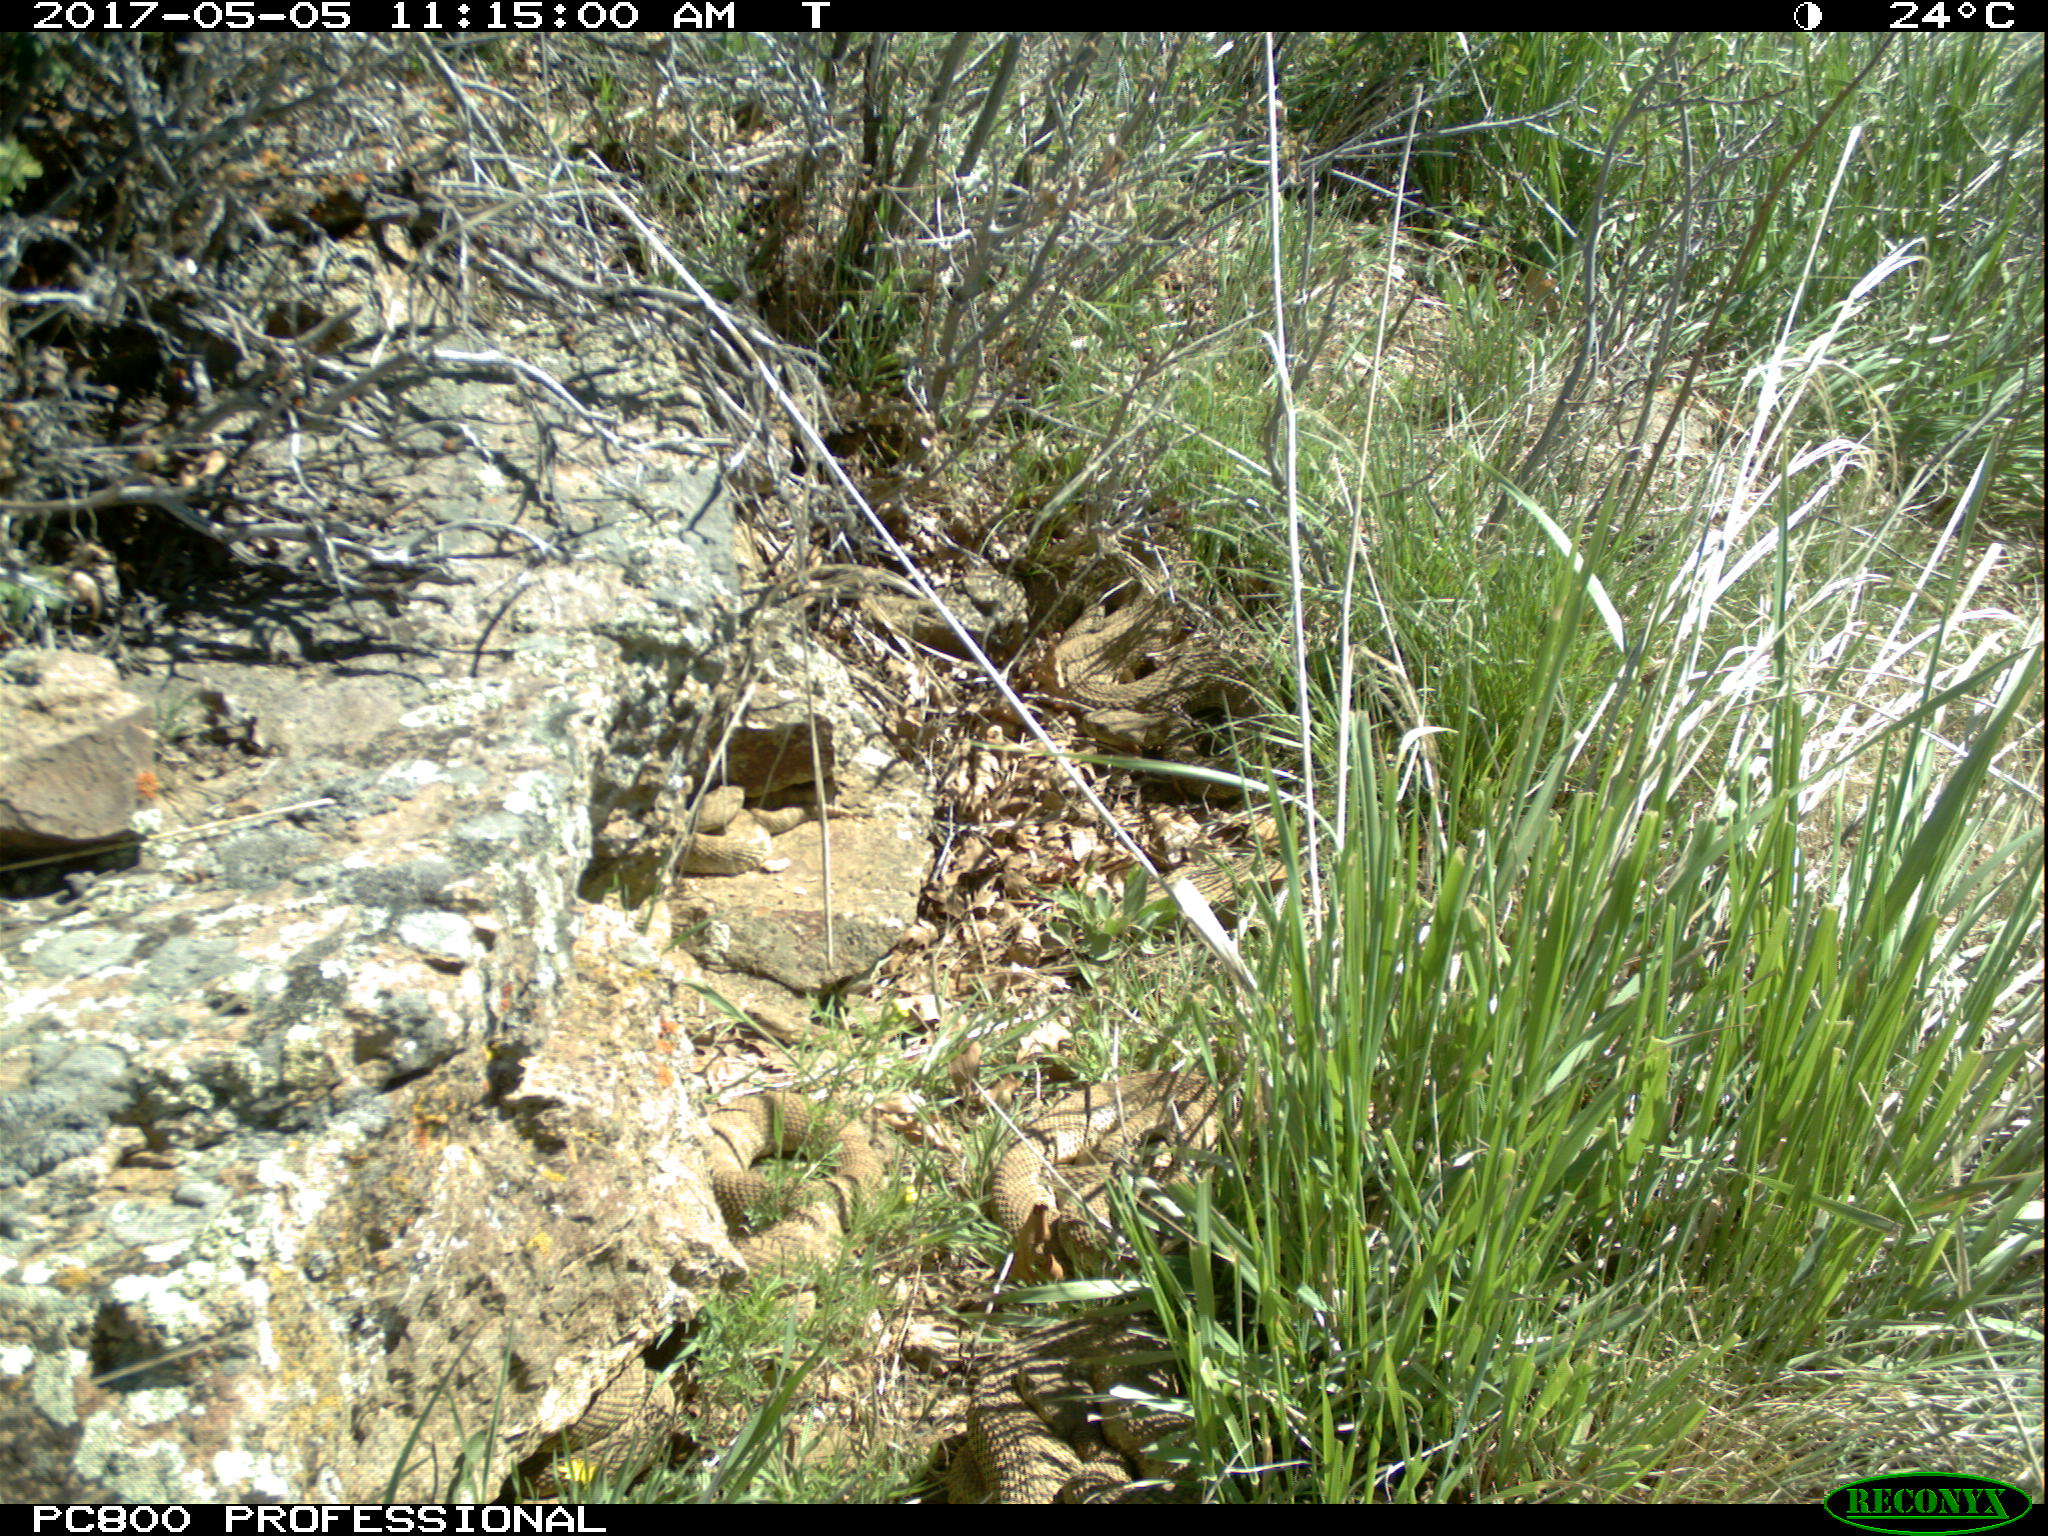snake: (990, 1058, 1240, 1284), (692, 1092, 901, 1279), (964, 1329, 1190, 1502), (1039, 568, 1263, 724), (527, 1359, 684, 1486), (681, 768, 821, 881)
